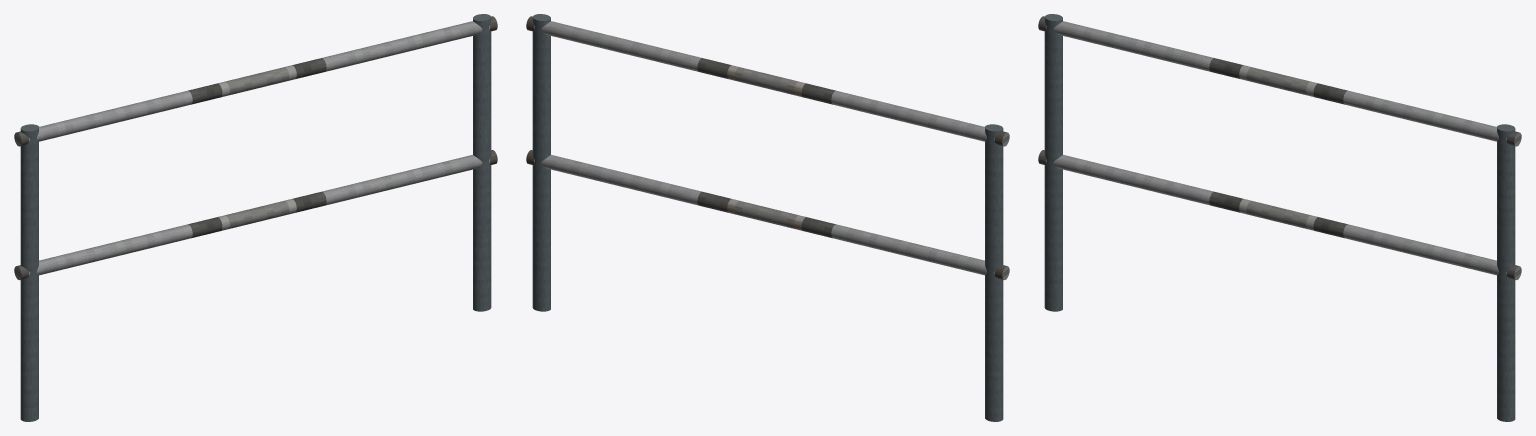
Rendered from holding-rail.glb.
3 renders of one model, left to right at view 1: azimuth 30°, elevation 25°; view 2: azimuth 150°, elevation 25°; view 3: azimuth 330°, elevation 25°, orthographic.
Visible parts, largest first — view 1: rail (×2), post (×2); view 2: rail (×2), post (×2); view 3: rail (×2), post (×2).
Part boxes in pixels (x1,y1,x2,y2): rail (×2): [14, 16, 497, 280]; post (×2): [20, 14, 491, 421]; rail (×2): [526, 16, 1009, 280]; post (×2): [532, 14, 1003, 421]; rail (×2): [1038, 16, 1521, 280]; post (×2): [1044, 14, 1515, 421].
Size of the model in its own units: 1.8 by 1.05 by 0.052.
Materials: 2 (2 with a texture image).
